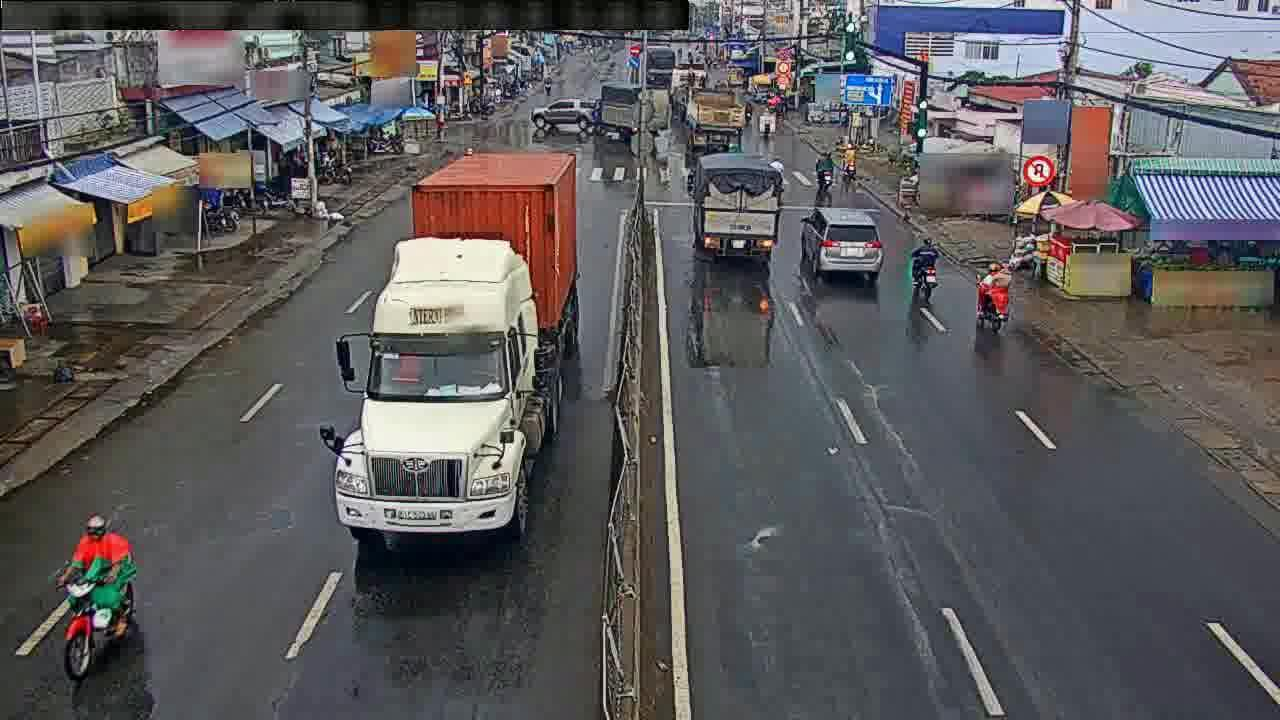8: (332, 152, 577, 540), (697, 157, 776, 254), (684, 85, 744, 149), (598, 80, 667, 133)
container: (801, 208, 885, 269), (525, 103, 593, 128)
motorbike: (51, 518, 146, 675), (973, 253, 1012, 335), (903, 232, 945, 295), (811, 150, 839, 184)
